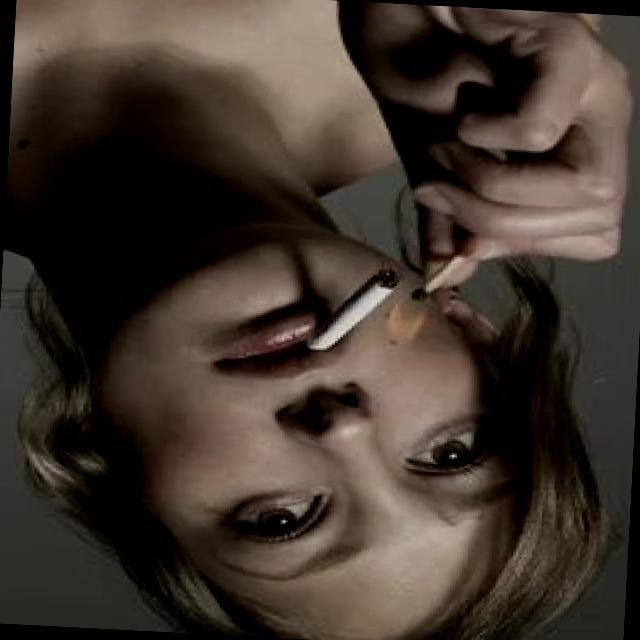smoke: (294, 259, 403, 360)
